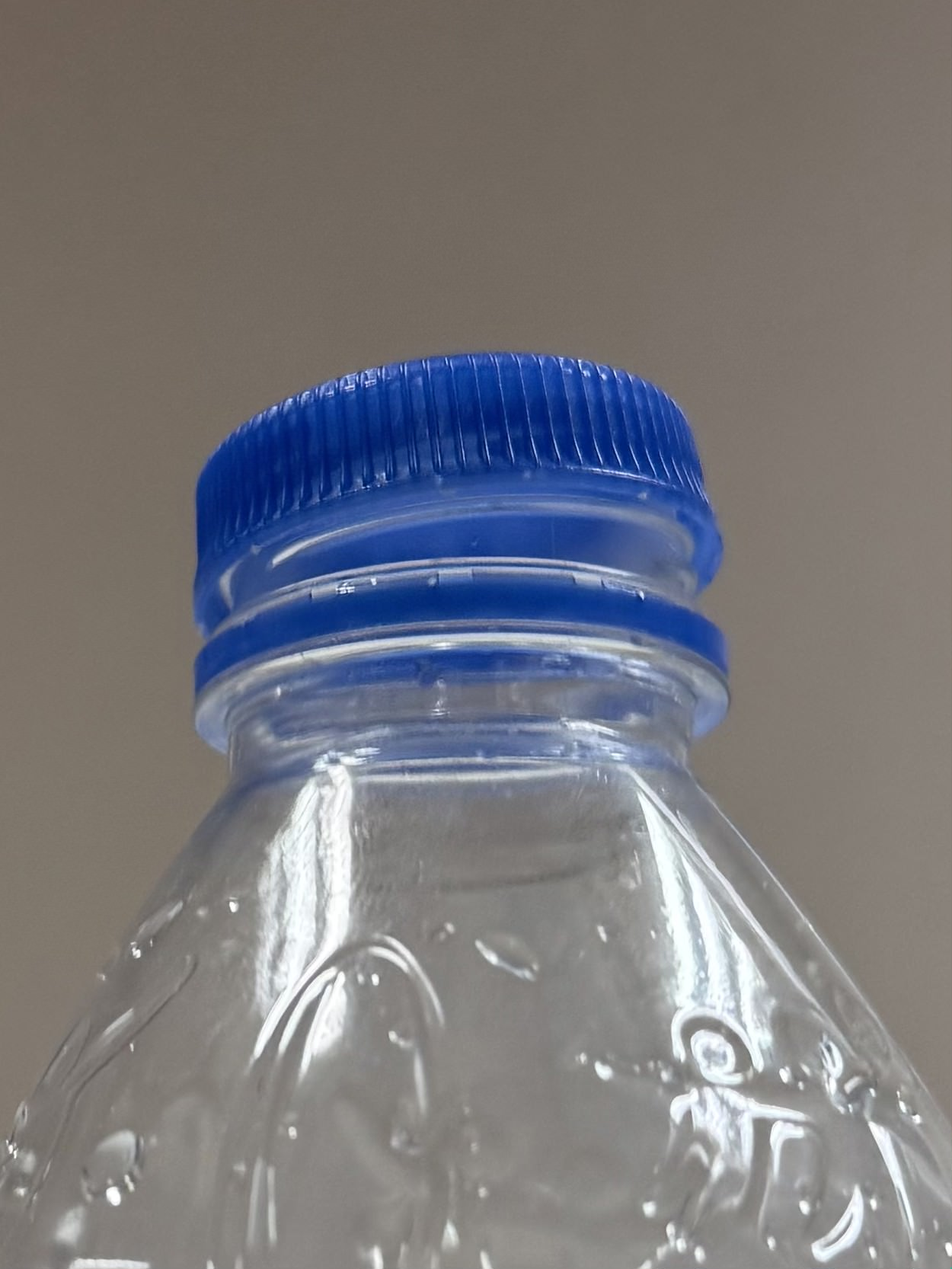half_cap: (179, 341, 741, 750)
